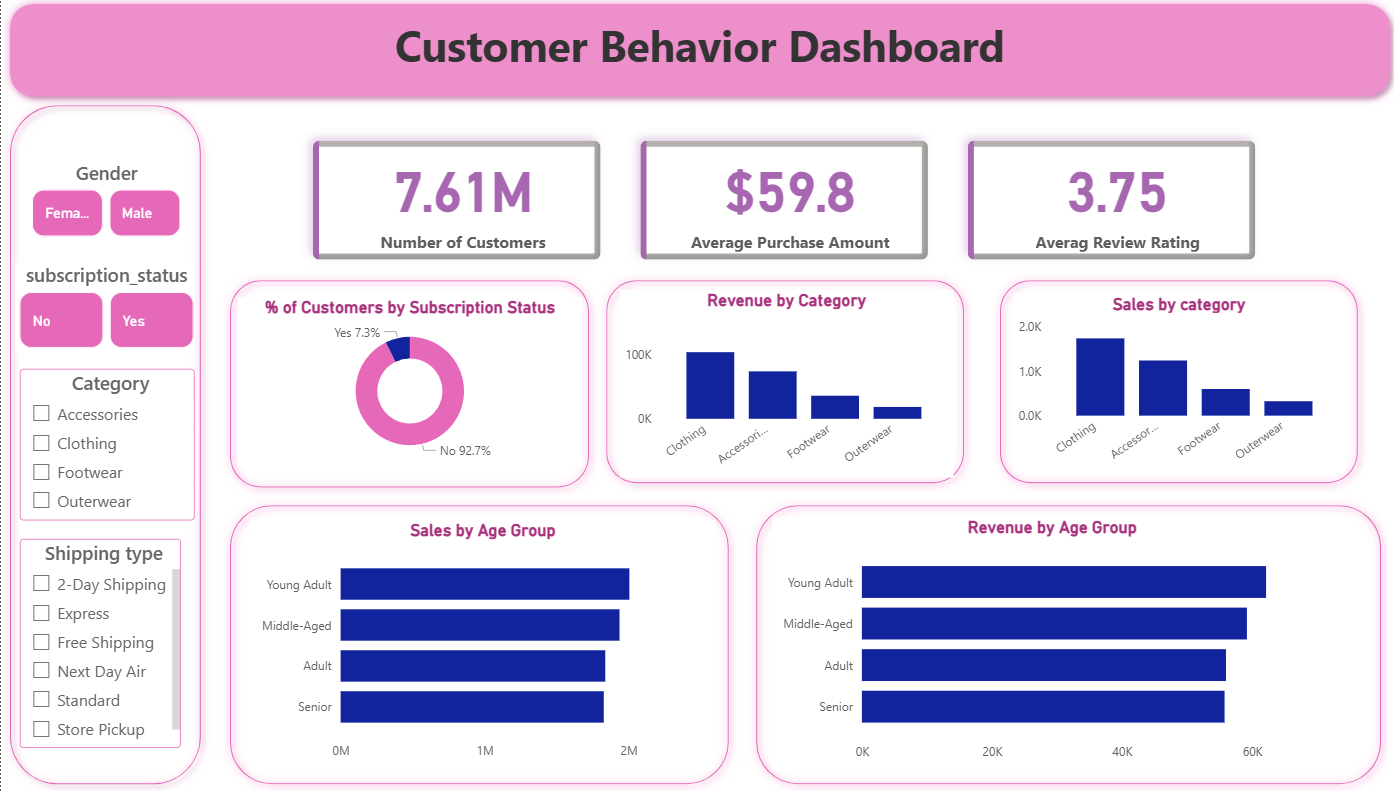

The page's visual inventory and layout, read from the dashboard file:
{"tool":"powerbi","page":{"name":"Page 1","canvas":[1400,800],"ordinal":0},"visuals":[{"type":"cardVisual","fields":{"Data":["customer_behavior customer.Number of Customers","customer_behavior customer.Average Purchase Amount","customer_behavior customer.Averag Review Rating"]},"box":[292.3,124.9,988,161.9],"z":0},{"type":"shape","box":[0,0,1400.3,110.6],"z":1000},{"type":"textbox","box":[0,16.5,1400.3,94.1],"z":2000},{"type":"shape","box":[0,101.9,209.2,698.4],"z":3000},{"type":"advancedSlicerVisual","title":"Gender","fields":{"Values":["customer_behavior customer.gender"]},"box":[26.7,165.3,153.9,82.7],"z":4000},{"type":"shape","box":[220.1,277.2,377.7,225.5],"z":5000},{"type":"shape","box":[597.7,277.3,376.5,221.3],"z":6000},{"type":"shape","box":[992,277.3,376.5,221.3],"z":7000},{"type":"donutChart","title":"% of Customers by Subscription Status","fields":{"Category":["customer_behavior customer.subscription_status"],"Y":["Sum(customer_behavior customer.customer_id)"]},"box":[237.8,303,343.8,168.5],"z":8000},{"type":"clusteredColumnChart","title":"Revenue by Category","fields":{"Category":["customer_behavior customer.category"],"Y":["Sum(customer_behavior customer.purchase_amount)"]},"box":[619.4,295.1,334.5,188.2],"z":9000},{"type":"clusteredColumnChart","title":"Sales by category","fields":{"Y":["CountNonNull(customer_behavior customer.customer_id)"],"Category":["customer_behavior customer.category"]},"box":[1014.9,298.9,331.9,179.3],"z":10000},{"type":"advancedSlicerVisual","fields":{"Values":["customer_behavior customer.subscription_status"]},"box":[14,268.4,179.3,91.6],"z":11000},{"type":"slicer","title":"Category","fields":{"Values":["customer_behavior customer.category"]},"box":[19,375,175.3,152.2],"z":12000},{"type":"slicer","title":"Shipping type","fields":{"Values":["customer_behavior customer.shipping_type"]},"box":[19,544.8,161.7,209.2],"z":13000},{"type":"shape","box":[220.1,502.7,517.7,297.6],"z":14000},{"type":"shape","box":[747.3,502.7,644,297.6],"z":15000},{"type":"clusteredBarChart","title":"Revenue by Age Group","fields":{"Category":["customer_behavior customer.age_group"],"Y":["Sum(customer_behavior customer.purchase_amount)"]},"box":[773.1,523.1,561.1,252.7],"z":16000},{"type":"clusteredBarChart","title":"Sales by Age Group","fields":{"Category":["customer_behavior customer.age_group"],"Y":["Sum(customer_behavior customer.customer_id)"]},"box":[250,525.8,464.7,250],"z":17000}]}

Visuals, with their boxes in screenshot pixels (x1, y1, x2, y2), scaled from the page's 1400x800 canvas onto the 1394x791 screenshot:
cardVisual - customer_behavior customer.Number of Customers x customer_behavior customer.Average Purchase Amount: [291,123,1275,284]
shape: [0,0,1393,109]
textbox: [0,16,1393,109]
shape: [0,101,208,790]
"Gender" advancedSlicerVisual: [27,163,180,245]
shape: [219,274,595,497]
shape: [595,274,970,493]
shape: [988,274,1363,493]
"% of Customers by Subscription Status" donutChart: [237,300,579,466]
"Revenue by Category" clusteredColumnChart: [617,292,950,478]
"Sales by category" clusteredColumnChart: [1011,296,1341,473]
advancedSlicerVisual - customer_behavior customer.subscription_status: [14,265,192,356]
"Category" slicer: [19,371,193,521]
"Shipping type" slicer: [19,539,180,746]
shape: [219,497,735,790]
shape: [744,497,1385,790]
"Revenue by Age Group" clusteredBarChart: [770,517,1328,767]
"Sales by Age Group" clusteredBarChart: [249,520,712,767]
